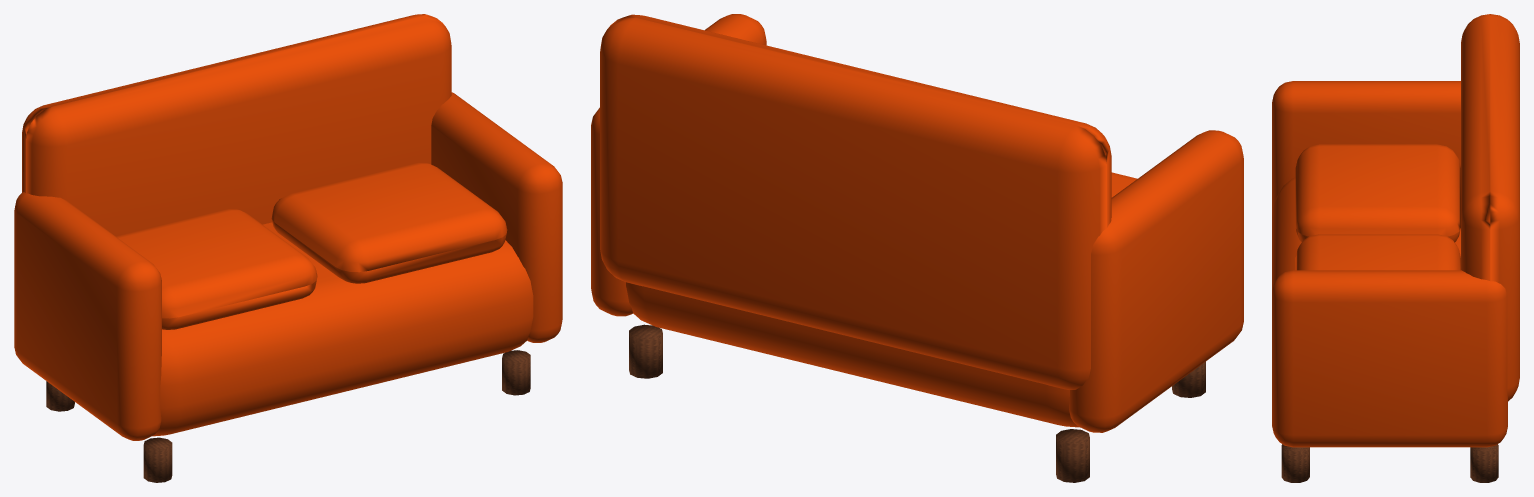
The model's file is sofa_two.glb.
3 renders of one model, left to right at view 1: azimuth 30°, elevation 25°; view 2: azimuth 150°, elevation 25°; view 3: azimuth 270°, elevation 25°, orthographic. The views are drawn at different scales.
Visible parts, largest first — view 1: back, seat, arm, cush.001, cush, arm.001, Cylinder, Cylinder.002; view 2: back, arm, seat, arm.001, Cylinder.001, Cylinder.003, Cylinder; view 3: arm.001, back, cush, arm, cush.001, seat, Cylinder.002, Cylinder.003.
Part boxes in pixels (x1,y1,x2,y2): back: (22,14,451,236); seat: (152,222,533,436); arm: (14,192,161,440); cush.001: (271,162,507,283); cush: (116,209,317,329); arm.001: (431,92,562,342); Cylinder: (143,437,172,482); Cylinder.002: (502,350,530,395); back: (600,14,1111,389); arm: (1069,130,1243,432); seat: (626,282,1080,427); arm.001: (591,14,766,316); Cylinder.001: (1056,429,1089,482); Cylinder.003: (629,324,662,378); Cylinder: (1172,361,1205,397); arm.001: (1272,270,1507,447); back: (1461,14,1519,401); cush: (1295,144,1460,242); arm: (1272,81,1460,215); cush.001: (1295,234,1460,270); seat: (1272,177,1460,290); Cylinder.002: (1281,444,1309,482); Cylinder.003: (1470,444,1498,482).
Bounding box in the file's own units: 0.42 × 0.27 × 0.21.
3 materials, 1 textured.
